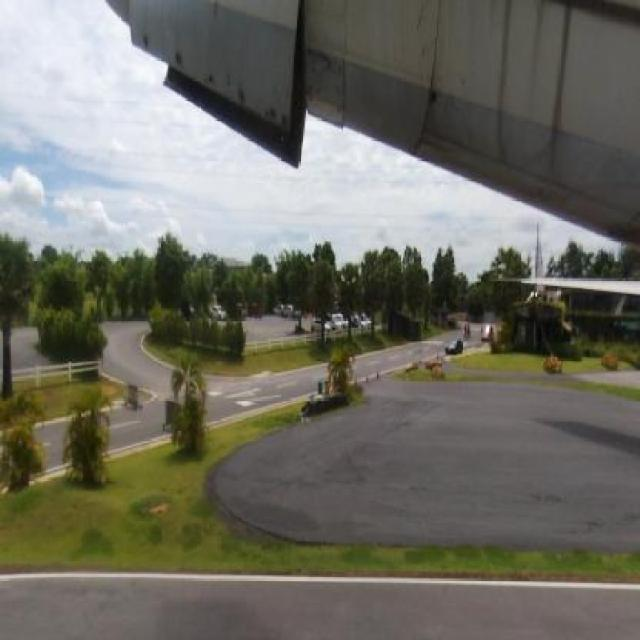Rust: (407, 3, 468, 169), (484, 1, 531, 182), (539, 2, 581, 201), (304, 21, 348, 127), (264, 88, 298, 138), (168, 39, 197, 96), (233, 68, 256, 121), (198, 60, 228, 97), (138, 22, 160, 59)
